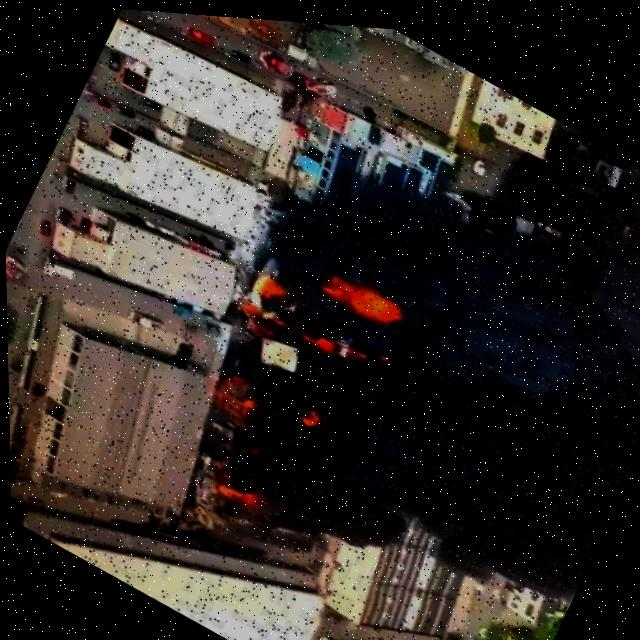Smoke: (318, 90, 640, 640), (157, 122, 497, 585)
